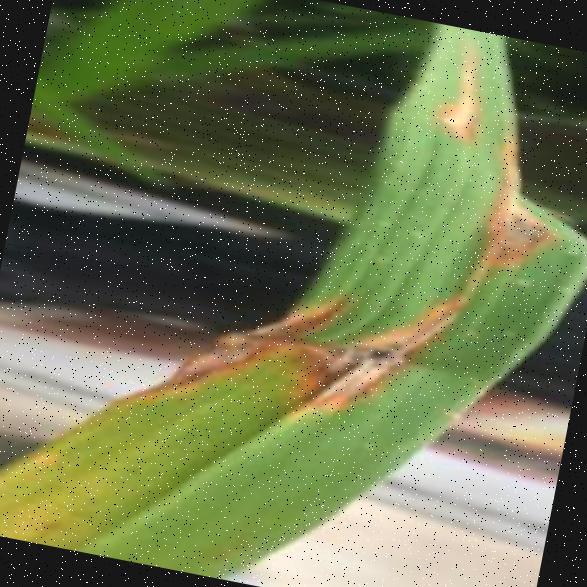Leaf_smut: (138, 234, 360, 405), (273, 251, 478, 434), (470, 118, 587, 281), (423, 24, 512, 139)
